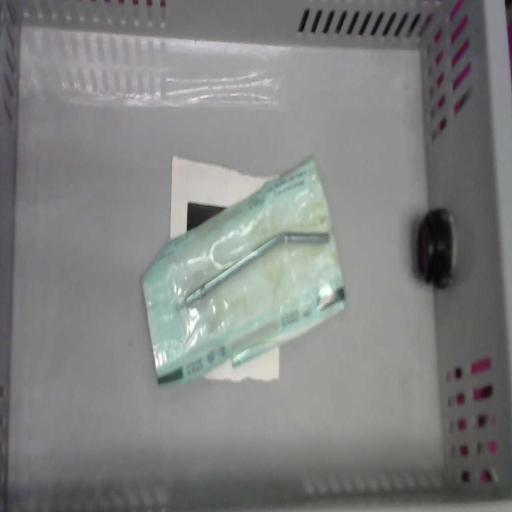triple_syringe: (142, 157, 347, 390)
